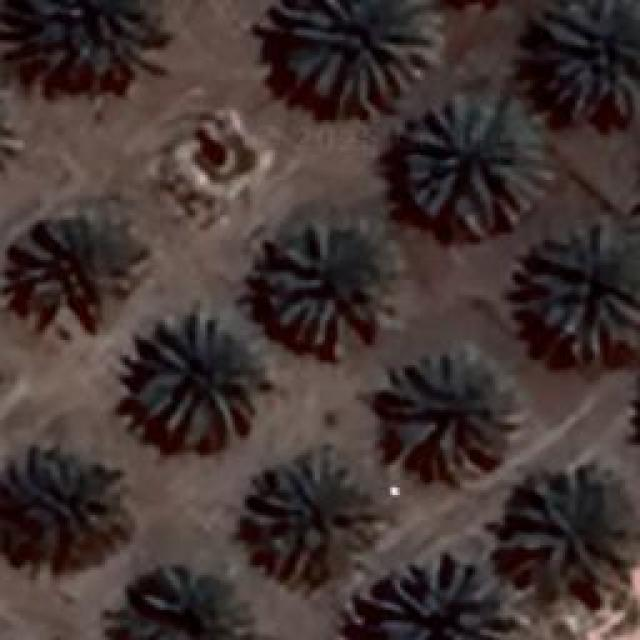PalmTree: (25, 103, 118, 506), (400, 92, 550, 232), (242, 448, 380, 582), (262, 222, 400, 352), (382, 350, 520, 480), (135, 315, 263, 450), (282, 0, 435, 112), (520, 225, 638, 358), (502, 474, 630, 578), (538, 0, 638, 118), (9, 212, 132, 306), (378, 552, 500, 638), (120, 562, 255, 636), (25, 0, 150, 78)
